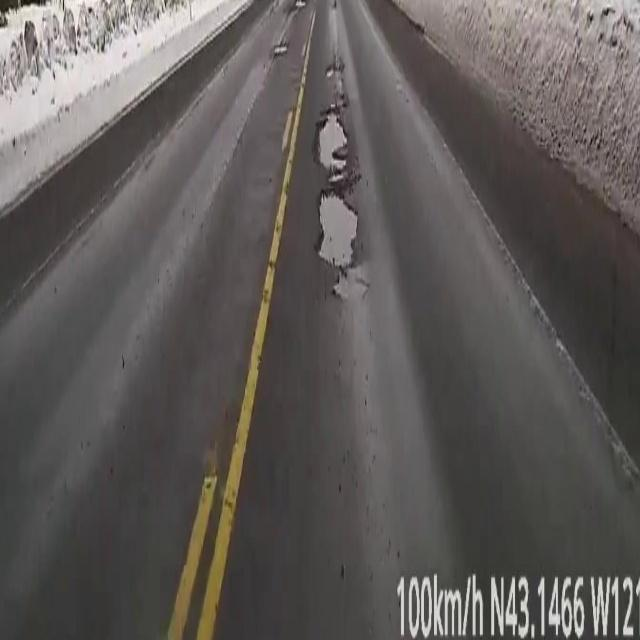pothole: (314, 59, 364, 300), (272, 34, 288, 58), (295, 0, 305, 6)
